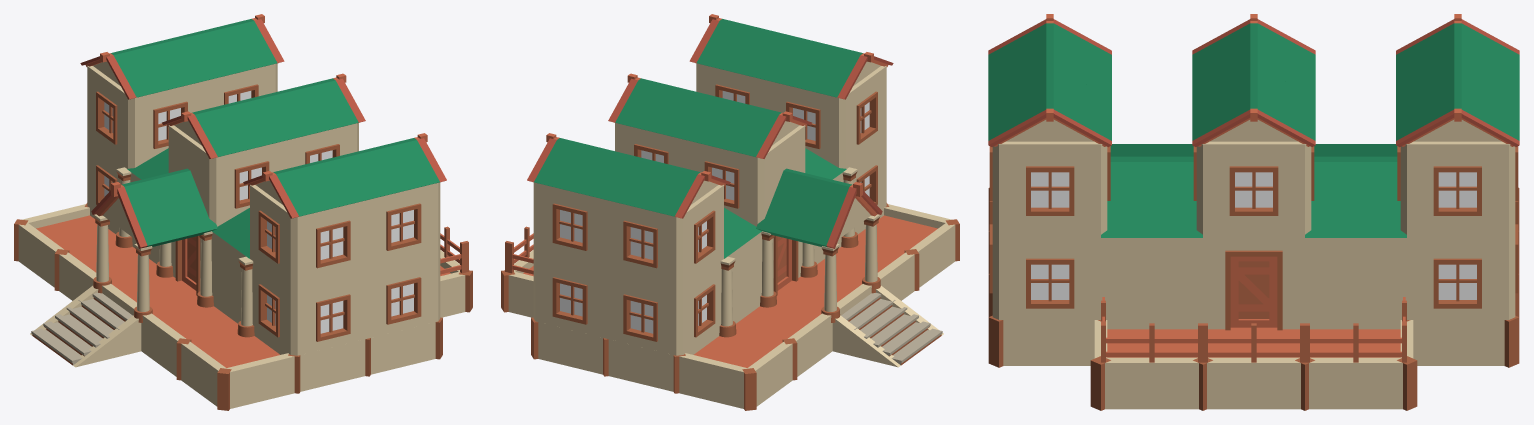
Rendered from bibliotheque.glb.
3 renders of one model, left to right at view 1: azimuth 30°, elevation 25°; view 2: azimuth 150°, elevation 25°; view 3: azimuth 270°, elevation 25°, orthographic. The views are drawn at different scales.
Visible parts, largest first — view 1: mergedBlocks(Clone); view 2: mergedBlocks(Clone); view 3: mergedBlocks(Clone).
Part boxes in pixels (bbox=[...]): mergedBlocks(Clone): bbox=[14, 14, 472, 410]; mergedBlocks(Clone): bbox=[501, 14, 959, 410]; mergedBlocks(Clone): bbox=[988, 14, 1519, 410].
Bounding box in the file's own units: 5.11 × 2.78 × 5.21.
Materials: 1 (1 with a texture image).
